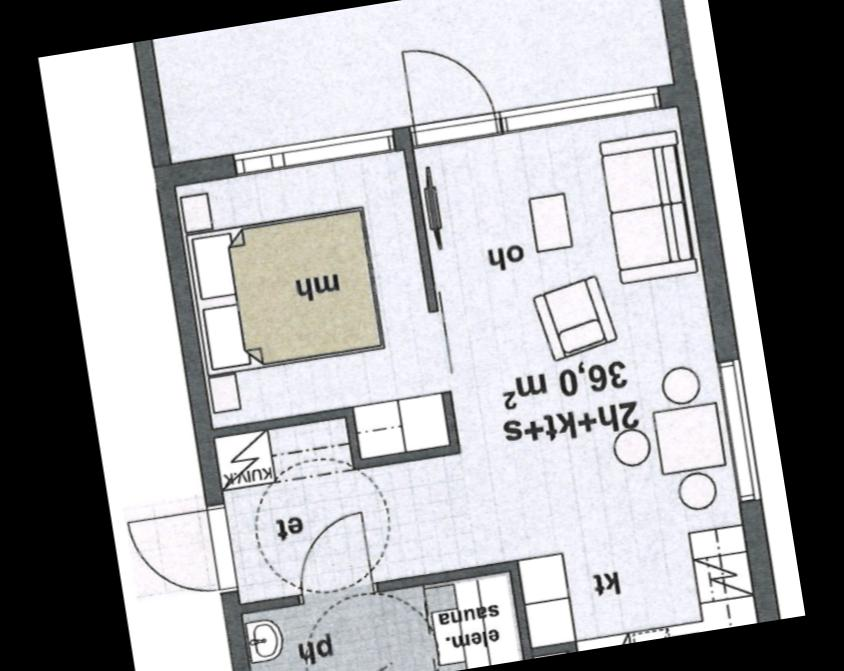door: (396, 32, 510, 156), (125, 498, 246, 609), (286, 506, 384, 616)
window: (494, 77, 667, 141), (225, 119, 402, 181), (710, 352, 770, 507)
